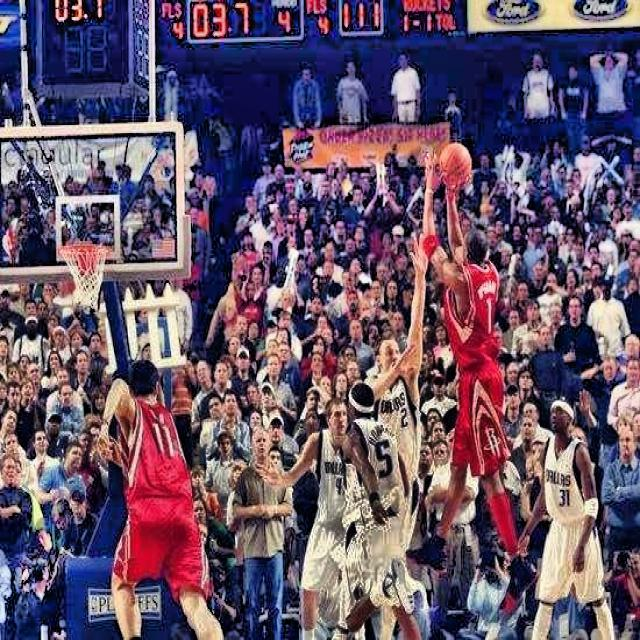board: (439, 142, 472, 186)
rim: (62, 245, 108, 308)
